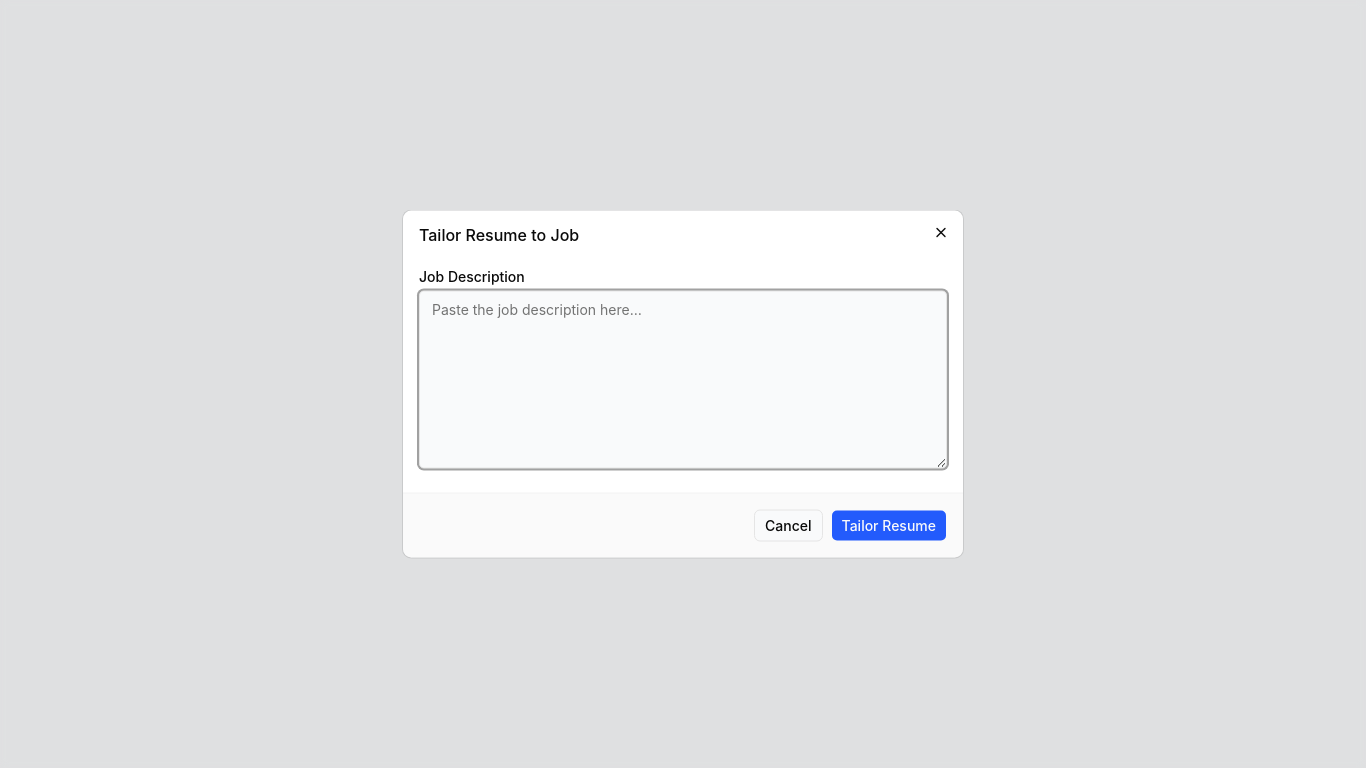
TailorJobDialog › clears validation error when user types after an empty submit
The width and height of the screenshot is (1366, 768).
# Trigger validation error
Click the button "Tailor Resume" at (889, 526), box [830,510,947,542]
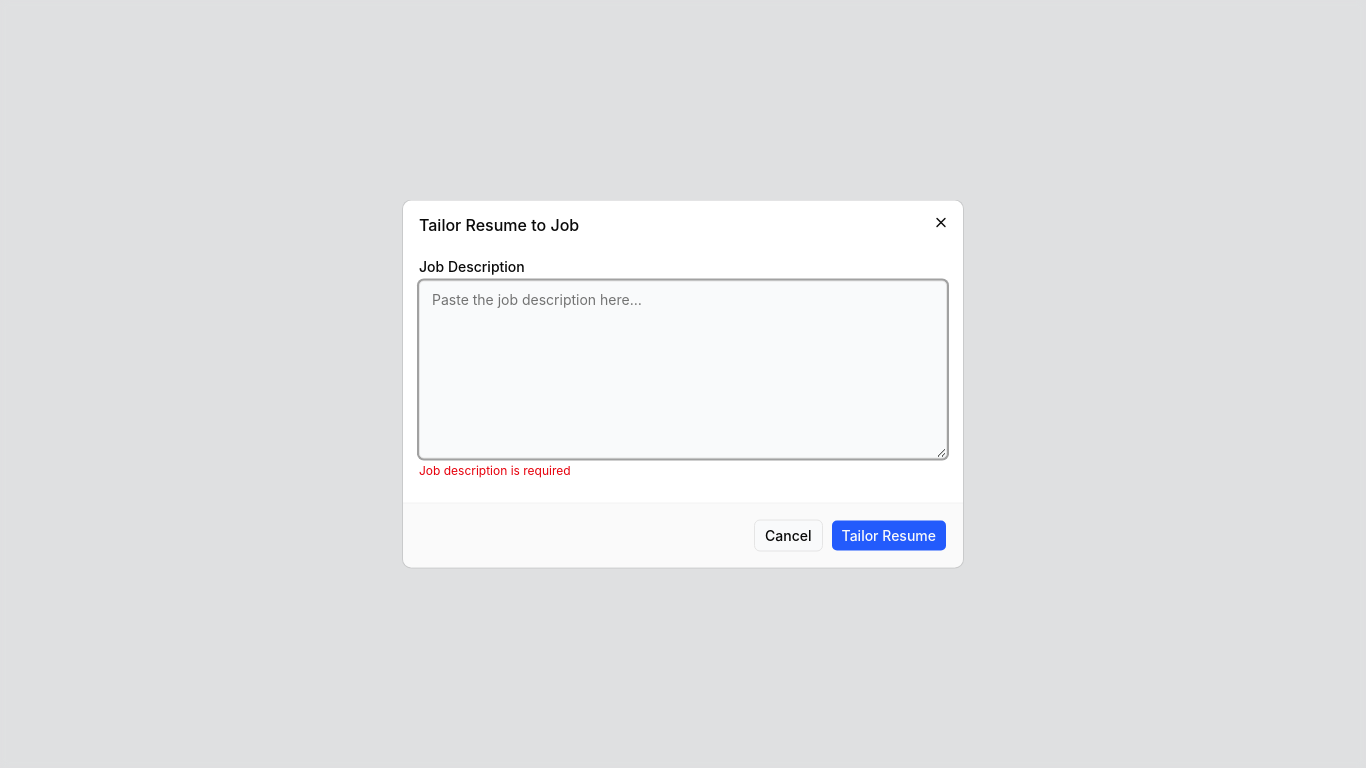
Check: the message "Job description is required" is shown, box [419,462,571,478]
# Type something — error should clear
Type "Backend role" into the text box labelled "Job Description" at (683, 370), box [419,280,947,458]
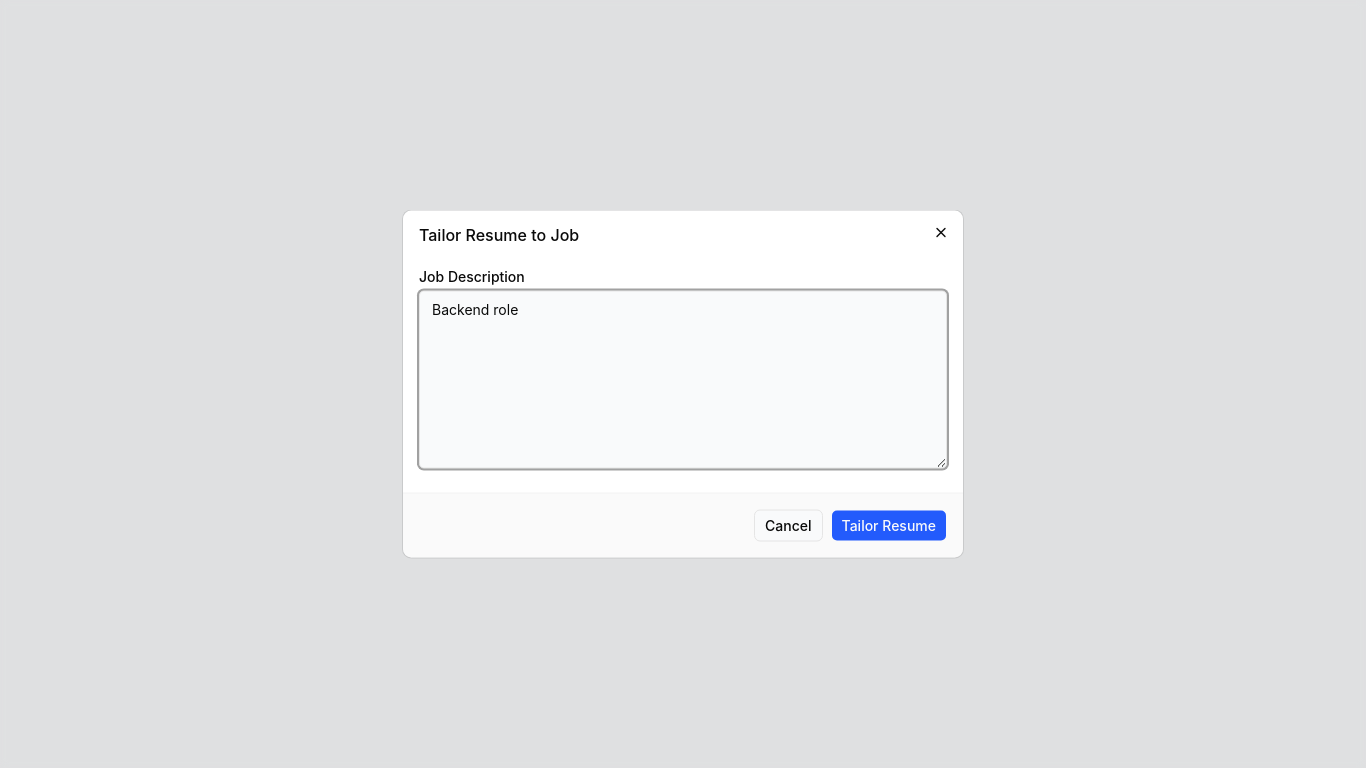
Check: the message "Job description is required" is gone
